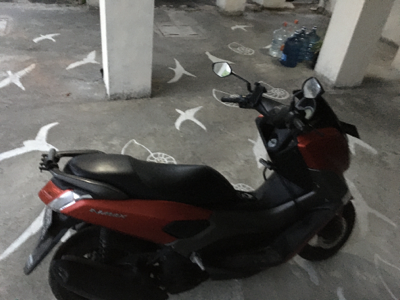moto: (32, 74, 358, 300)
